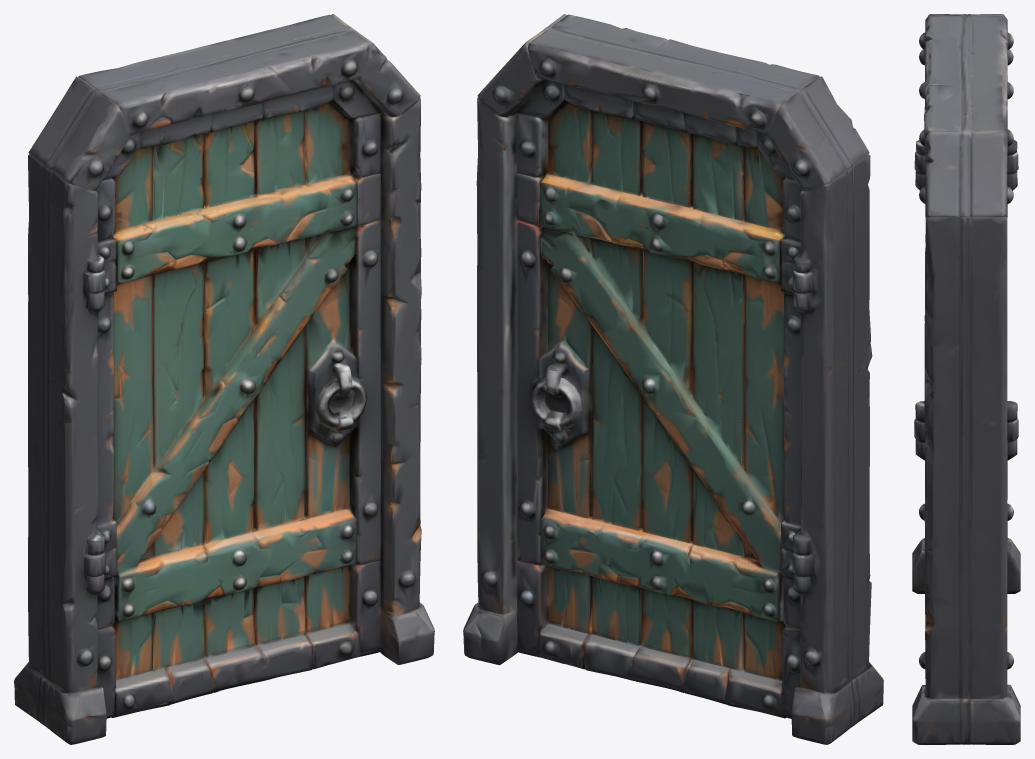
Rendered from door_kickable.glb.
3 views of the same model, side by side, from view 1: azimuth 30°, elevation 25°; view 2: azimuth 150°, elevation 25°; view 3: azimuth 270°, elevation 25° (orthographic). The views are drawn at different scales.
Parts seen in each view (by area): view 1: node_0; view 2: node_0; view 3: node_0.
Part boxes in pixels (x1,y1,x2,y2): node_0: [14, 14, 434, 744]; node_0: [463, 14, 883, 744]; node_0: [912, 14, 1020, 744].
Size of the model in its own units: 0.6304 by 1.02 by 0.1705.
Materials: 1 (1 with a texture image).
